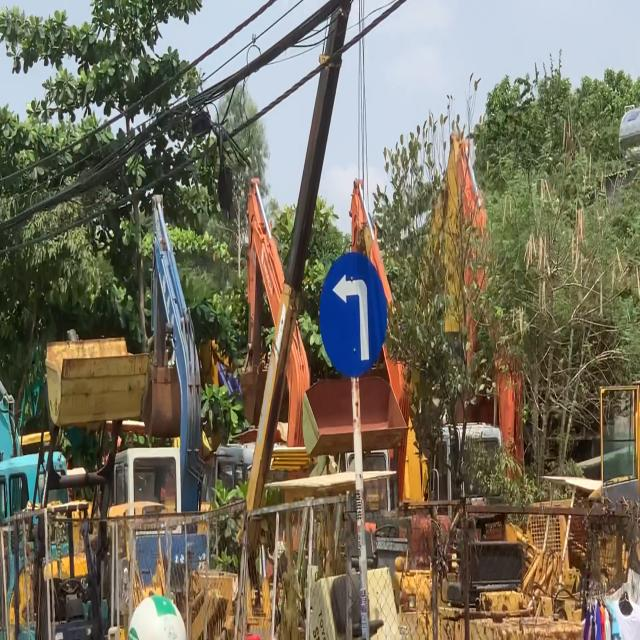Re trai: (320, 254, 389, 376)
